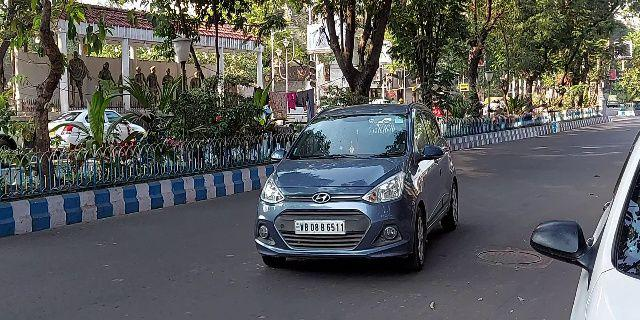Car: (248, 99, 465, 275), (526, 109, 640, 320)
